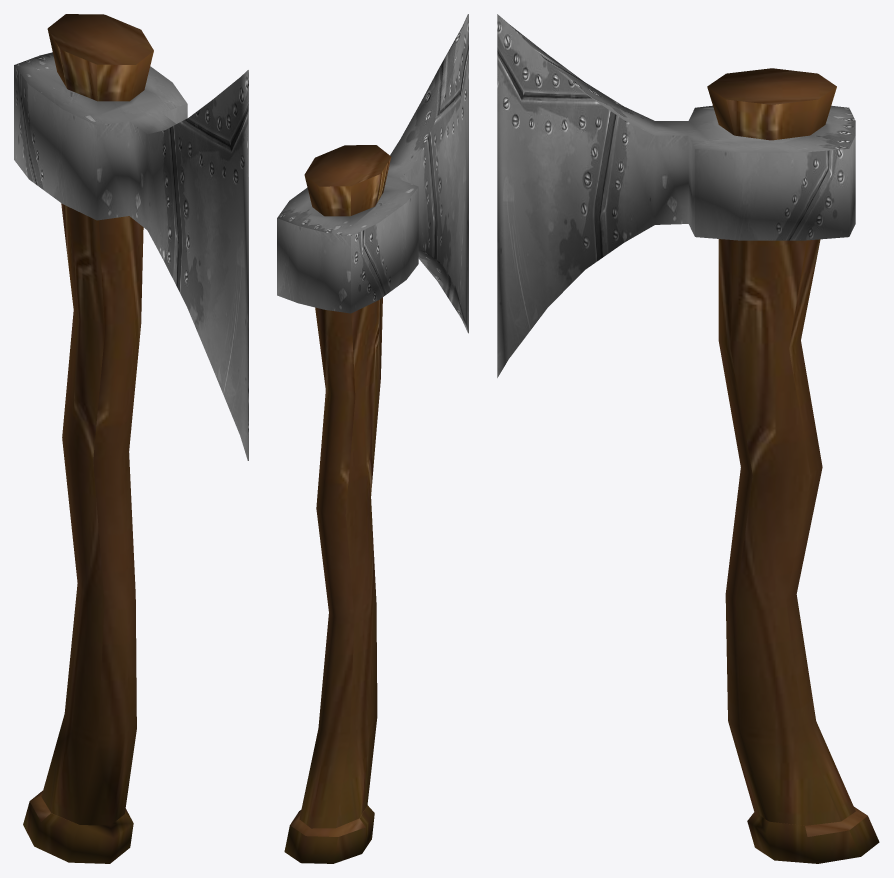
Rendered from hachafinalizadaparagus.fbx.
The picture shows the model from 3 angles, left to right: view 1: azimuth 30°, elevation 25°; view 2: azimuth 150°, elevation 25°; view 3: azimuth 270°, elevation 25°; orthographic projection. The views are drawn at different scales.
Visible parts, largest first — view 1: Cube; view 2: Cube; view 3: Cube.
Part boxes in pixels (x1,y1,x2,y2): Cube: (14,14,248,863); Cube: (277,14,468,863); Cube: (497,14,879,863).
Size of the model in its own units: 86.08 by 670 by 278.
2 materials, 2 textured.
